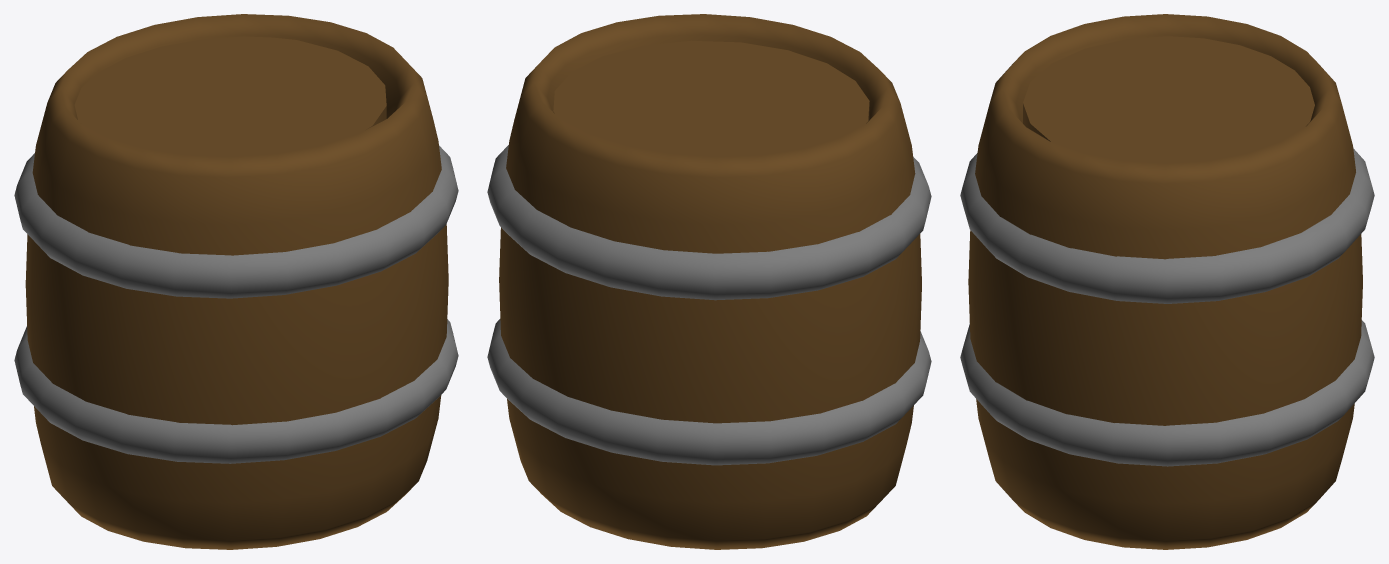
Rendered from barrelModel.fbx.
3 renders of one model, left to right at view 1: azimuth 30°, elevation 25°; view 2: azimuth 150°, elevation 25°; view 3: azimuth 270°, elevation 25°, orthographic.
Parts seen in each view (by area): view 1: Torus, Cylinder, Torus__1_, Torus__2_; view 2: Torus, Cylinder, Torus__1_, Torus__2_; view 3: Torus, Cylinder, Torus__1_, Torus__2_.
Boxes of the visible parts, <box> form: Torus: <box>25,14,448,549</box>; Cylinder: <box>74,36,386,156</box>; Torus__1_: <box>14,145,458,298</box>; Torus__2_: <box>14,319,458,463</box>; Torus: <box>499,14,921,549</box>; Cylinder: <box>553,40,869,156</box>; Torus__1_: <box>487,145,931,300</box>; Torus__2_: <box>487,319,931,465</box>; Torus: <box>968,14,1362,549</box>; Cylinder: <box>1023,36,1314,163</box>; Torus__1_: <box>960,148,1374,303</box>; Torus__2_: <box>960,320,1374,466</box>.
Size of the model in its own units: 207 by 198 by 193.
